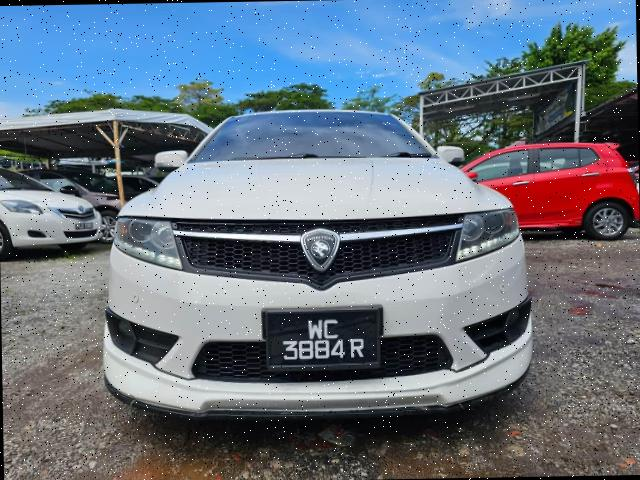License_Plate: (268, 307, 377, 367)
car: (101, 103, 533, 427)
